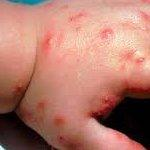Ants: (96, 91, 119, 117), (125, 47, 147, 67), (68, 11, 91, 27), (15, 107, 37, 123), (42, 31, 59, 50), (98, 25, 113, 43), (56, 136, 74, 149), (53, 115, 64, 126), (14, 80, 24, 91), (37, 99, 45, 108)
